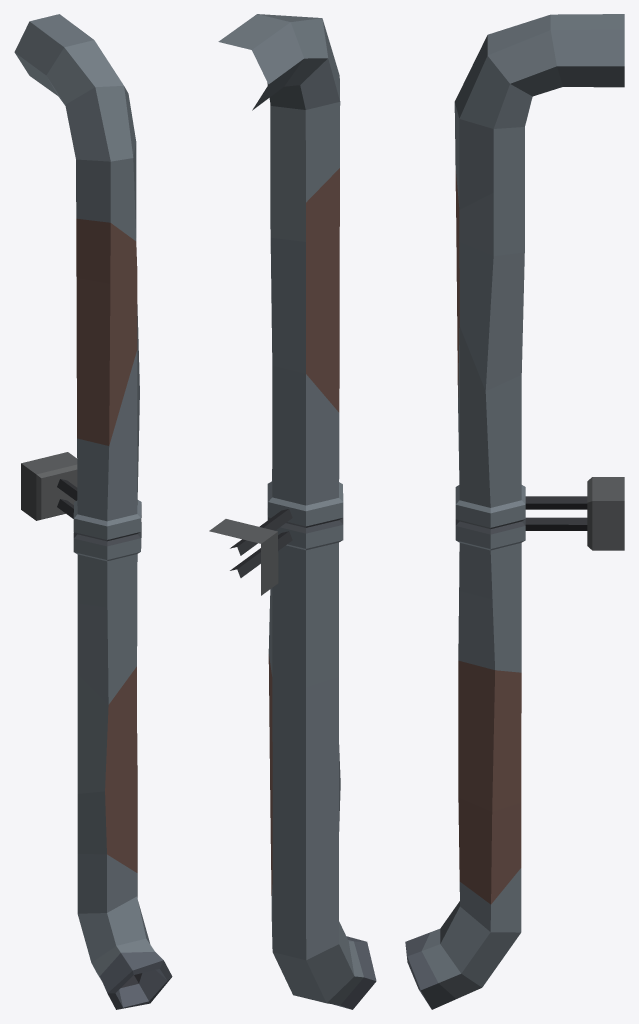
The model's file is SM_Rainwater_Pipe_3m.gltf.
3 renders of one model, left to right at view 1: azimuth 30°, elevation 25°; view 2: azimuth 150°, elevation 25°; view 3: azimuth 270°, elevation 25°, orthographic. The views are drawn at different scales.
Parts seen in each view (by area): view 1: SM_Rainwater_Pipe_3m; view 2: SM_Rainwater_Pipe_3m; view 3: SM_Rainwater_Pipe_3m.
Part boxes in pixels (left/top/right/bottom): SM_Rainwater_Pipe_3m: left=14, top=14, right=172, bottom=1009; SM_Rainwater_Pipe_3m: left=209, top=14, right=376, bottom=1009; SM_Rainwater_Pipe_3m: left=405, top=14, right=624, bottom=1009.
Bounding box in the file's own units: 0.2576 × 3.35 × 0.6785.
1 material, 1 textured.
